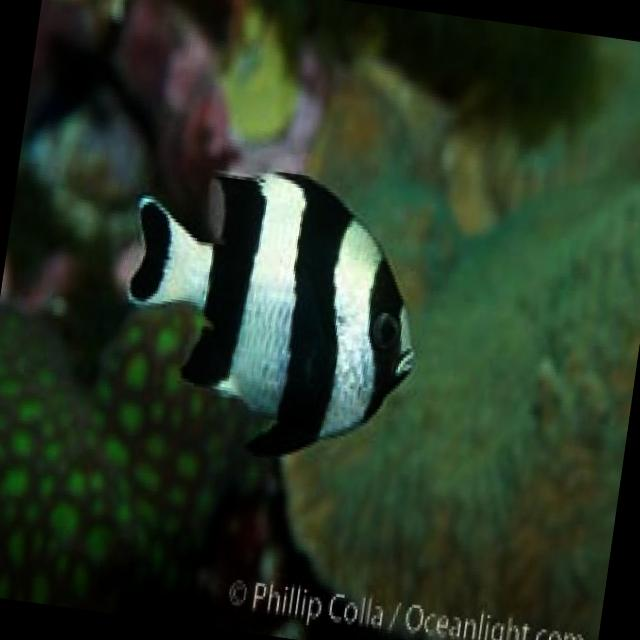Three_striped DasmselFish: (100, 146, 441, 481)
